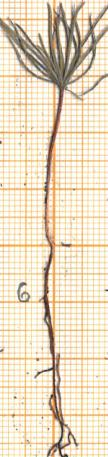flower: (0, 0, 108, 102)
root: (29, 243, 82, 457)
stem: (38, 89, 66, 248)
